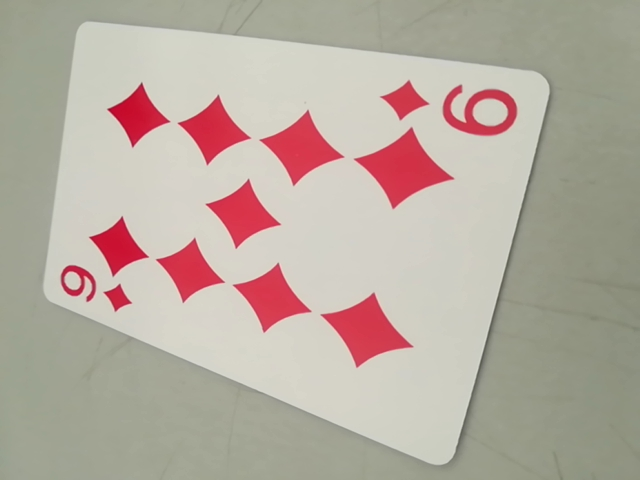fk 9: (381, 73, 525, 138), (48, 263, 141, 318)
